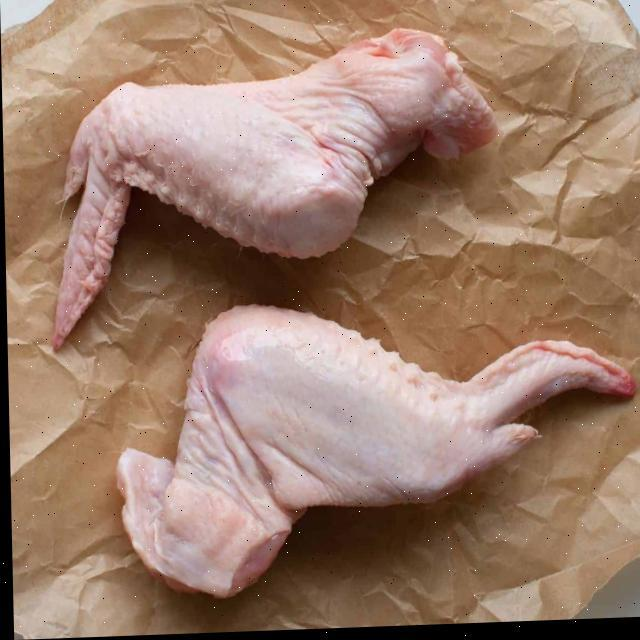wing: (46, 30, 498, 370), (109, 305, 626, 595)
